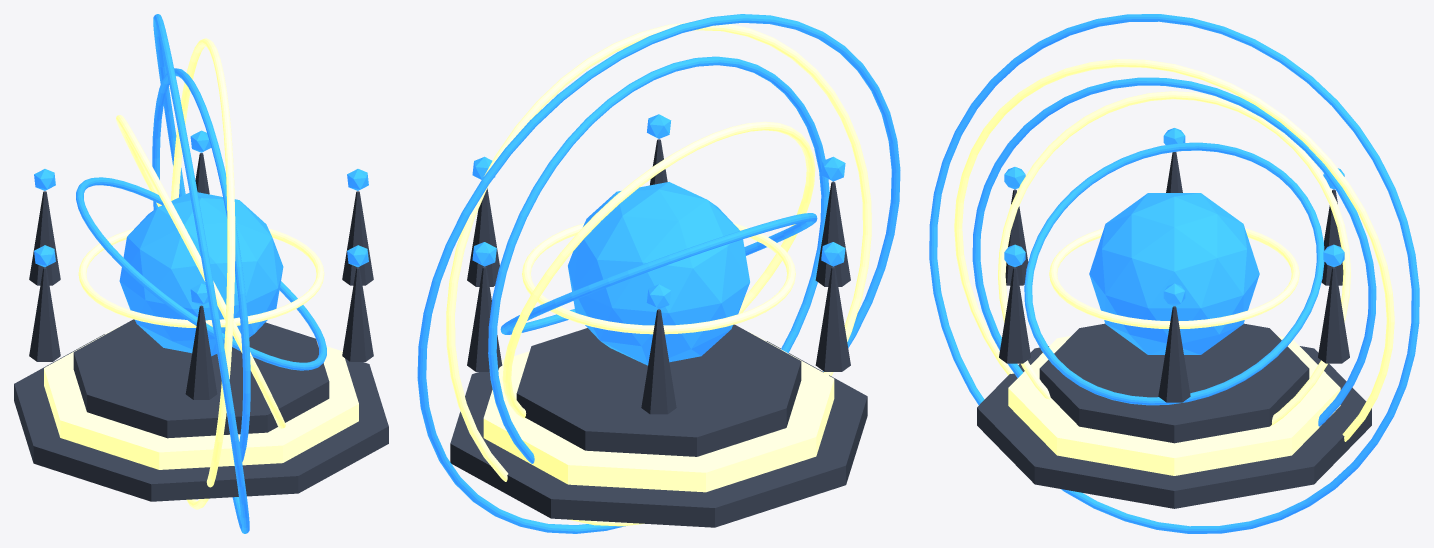
File: gpu-blender-v36.glb
The picture shows the model from 3 angles, left to right: view 1: azimuth 30°, elevation 25°; view 2: azimuth 150°, elevation 25°; view 3: azimuth 270°, elevation 25°; orthographic projection. The views are drawn at different scales.
Parts seen in each view (by area): view 1: Cylinder.002, Cylinder, SovereignCore_pod-smart-router, Cylinder.001, Torus.005, Torus.004, Torus.003, Torus.001, Torus, Torus.002, Cone.003, Cone.005 (+3 smaller); view 2: Cylinder.002, SovereignCore_pod-smart-router, Cylinder, Cylinder.001, Torus.005, Torus.004, Torus.003, Torus.002, Torus.001, Torus, Cone.002, Cone.003 (+3 smaller); view 3: SovereignCore_pod-smart-router, Cylinder.002, Cylinder, Cylinder.001, Torus.005, Torus.004, Torus.001, Torus.003, Torus.002, Torus, Cone, Cone.001 (+3 smaller).
Part boxes in pixels (x1,y1,x2,y2): Cylinder.002: (73,319,329,438); Cylinder: (14,334,388,501); SovereignCore_pod-smart-router: (119,192,283,356); Cylinder.001: (44,326,358,469); Torus.005: (153,14,249,533); Torus.004: (171,38,235,509); Torus.003: (152,68,250,461); Torus.001: (76,177,326,370); Torus: (78,228,324,327); Torus.002: (116,115,285,428); Cone.003: (29,267,60,361); Cone.005: (342,267,373,361); Cylinder.002: (516,324,801,456); SovereignCore_pod-smart-router: (568,182,749,365); Cylinder: (450,341,867,527); Cylinder.001: (483,332,834,492); Torus.005: (417,14,900,533); Torus.004: (446,22,871,526); Torus.003: (488,56,829,463); Torus.002: (502,121,815,418); Torus.001: (500,213,817,334); Torus: (522,223,795,334); Cone.002: (641,309,676,414); Cone.003: (815,267,850,371); SovereignCore_pod-smart-router: (1089,193,1259,354); Cylinder.002: (1039,323,1309,443); Cylinder: (977,346,1371,508); Cylinder.001: (1008,336,1340,475); Torus.005: (929,14,1419,533); Torus.004: (954,59,1394,441); Torus.001: (1024,142,1324,405); Torus.003: (972,77,1376,426); Torus.002: (998,91,1350,425); Torus: (1049,228,1299,328); Cone: (1158,306,1190,402); Cone.001: (1318,267,1349,363).
Bounding box in the file's own units: 4.41 × 5.93 × 5.46.
